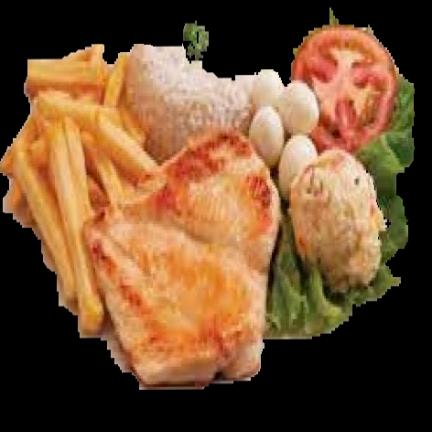chicken: (84, 131, 281, 386), (86, 130, 280, 385)
egg: (248, 69, 319, 201)
potato: (0, 46, 161, 341), (2, 45, 144, 332)
rice: (129, 44, 254, 162), (126, 46, 253, 162)
salad: (262, 15, 409, 335), (267, 74, 414, 338)
tomato: (292, 26, 397, 152)
